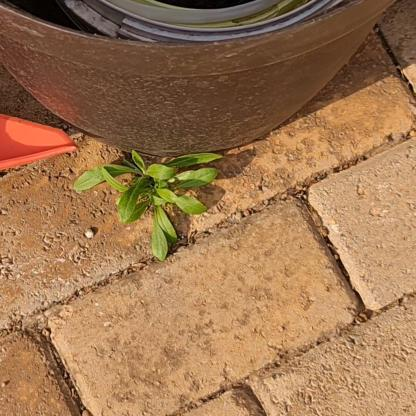Weeds: (73, 152, 225, 265)
